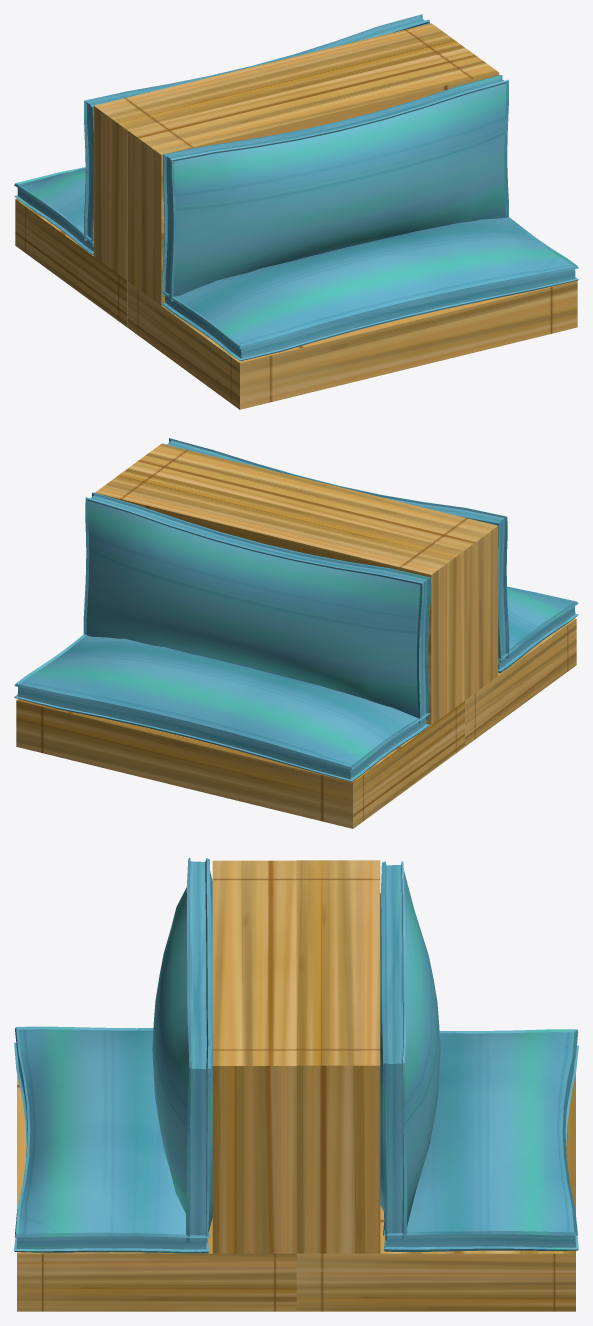
File: booth_blue.fbx
3 renders of one model, top to bottom at view 1: azimuth 30°, elevation 25°; view 2: azimuth 150°, elevation 25°; view 3: azimuth 270°, elevation 25°, orthographic. The views are drawn at different scales.
Visible parts, largest first — view 1: pCube35; view 2: pCube35; view 3: pCube35.
Part boxes in pixels (left/top/right/bottom): pCube35: left=14, top=14, right=578, bottom=409; pCube35: left=14, top=438, right=578, bottom=828; pCube35: left=14, top=857, right=578, bottom=1311.
Bounding box in the file's own units: 20.16 × 11.31 × 23.26.
3 materials, 2 textured.
